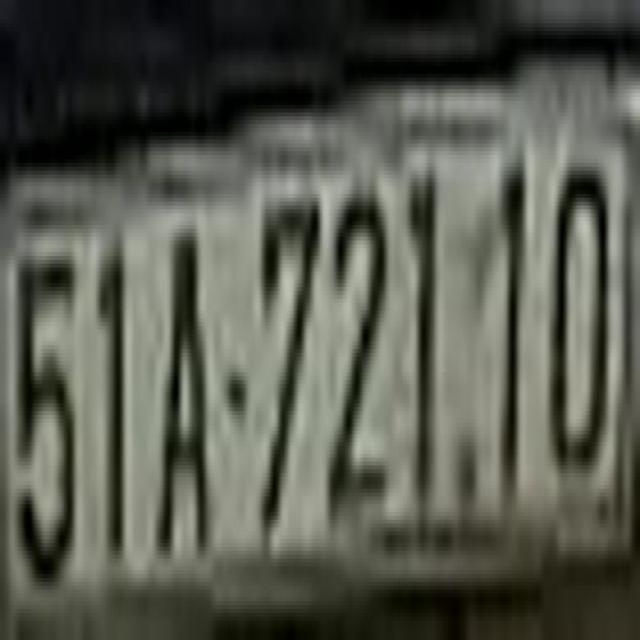0: (548, 108, 612, 516)
1: (402, 116, 438, 547), (493, 132, 527, 555), (96, 236, 132, 582)
2: (326, 175, 392, 528)
5: (16, 236, 78, 594)
7: (256, 178, 324, 562)
A: (152, 229, 214, 586)
